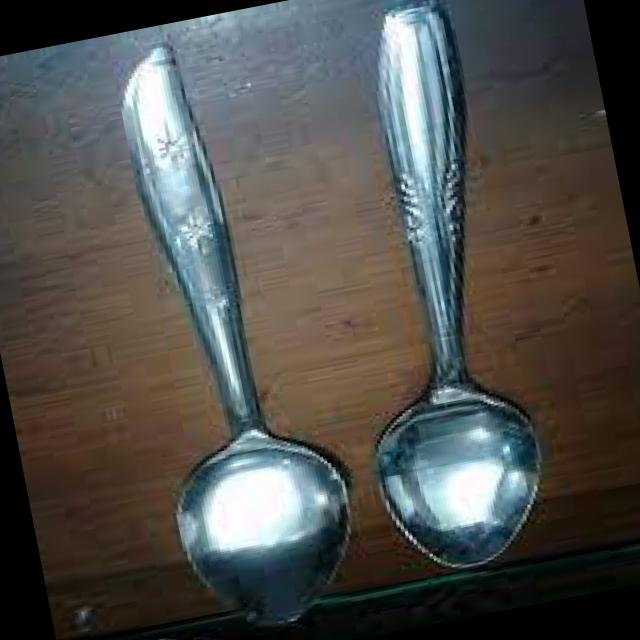spoon: (61, 17, 367, 640)
